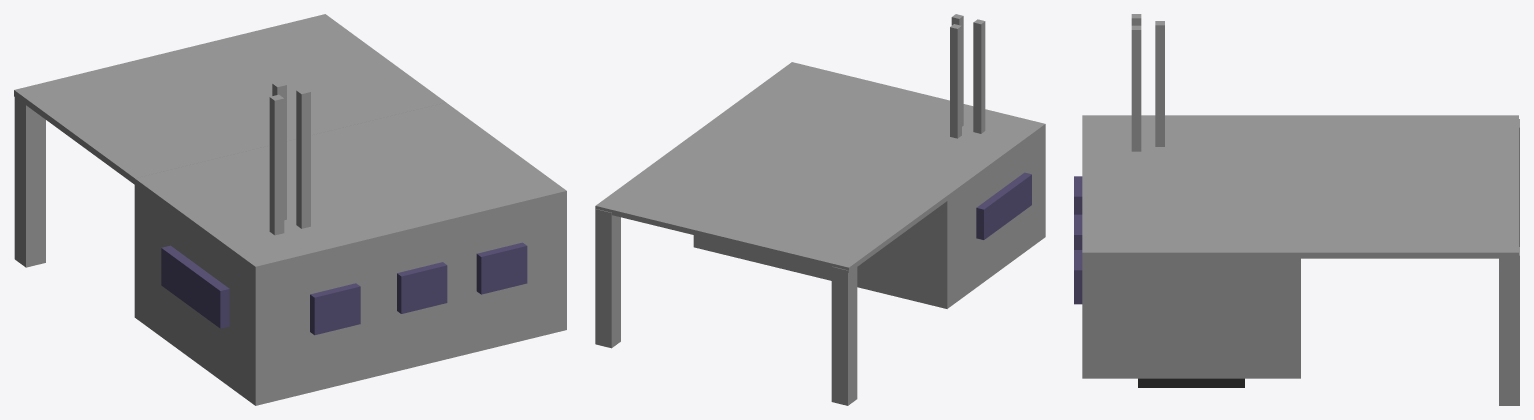
Rendered from expedHouse.fbx.
The picture shows the model from 3 angles, left to right: view 1: azimuth 30°, elevation 25°; view 2: azimuth 150°, elevation 25°; view 3: azimuth 270°, elevation 25°; orthographic projection. The views are drawn at different scales.
Parts seen in each view (by area): view 1: Cube.001; view 2: Cube.001; view 3: Cube.001.
Part boxes in pixels (x1,y1,x2,y2): Cube.001: [14, 14, 566, 405]; Cube.001: [595, 14, 1045, 405]; Cube.001: [1074, 14, 1519, 405].
Bounding box in the file's own units: 1406 × 1265 × 1856.
